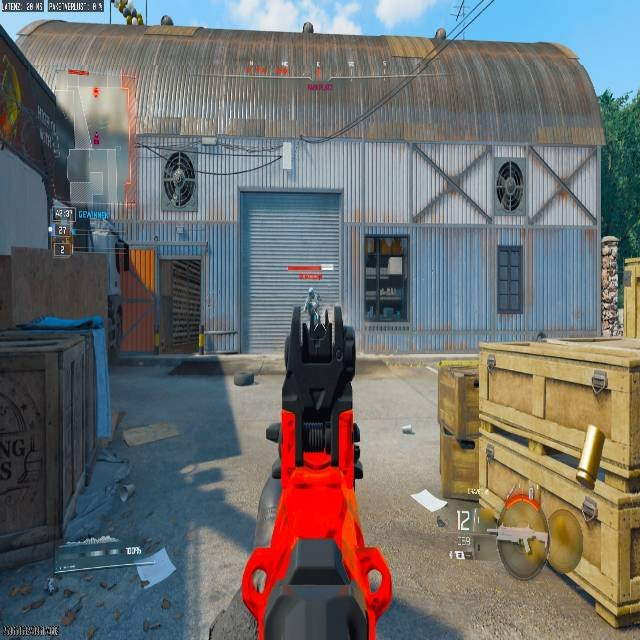player: (302, 285, 322, 323)
